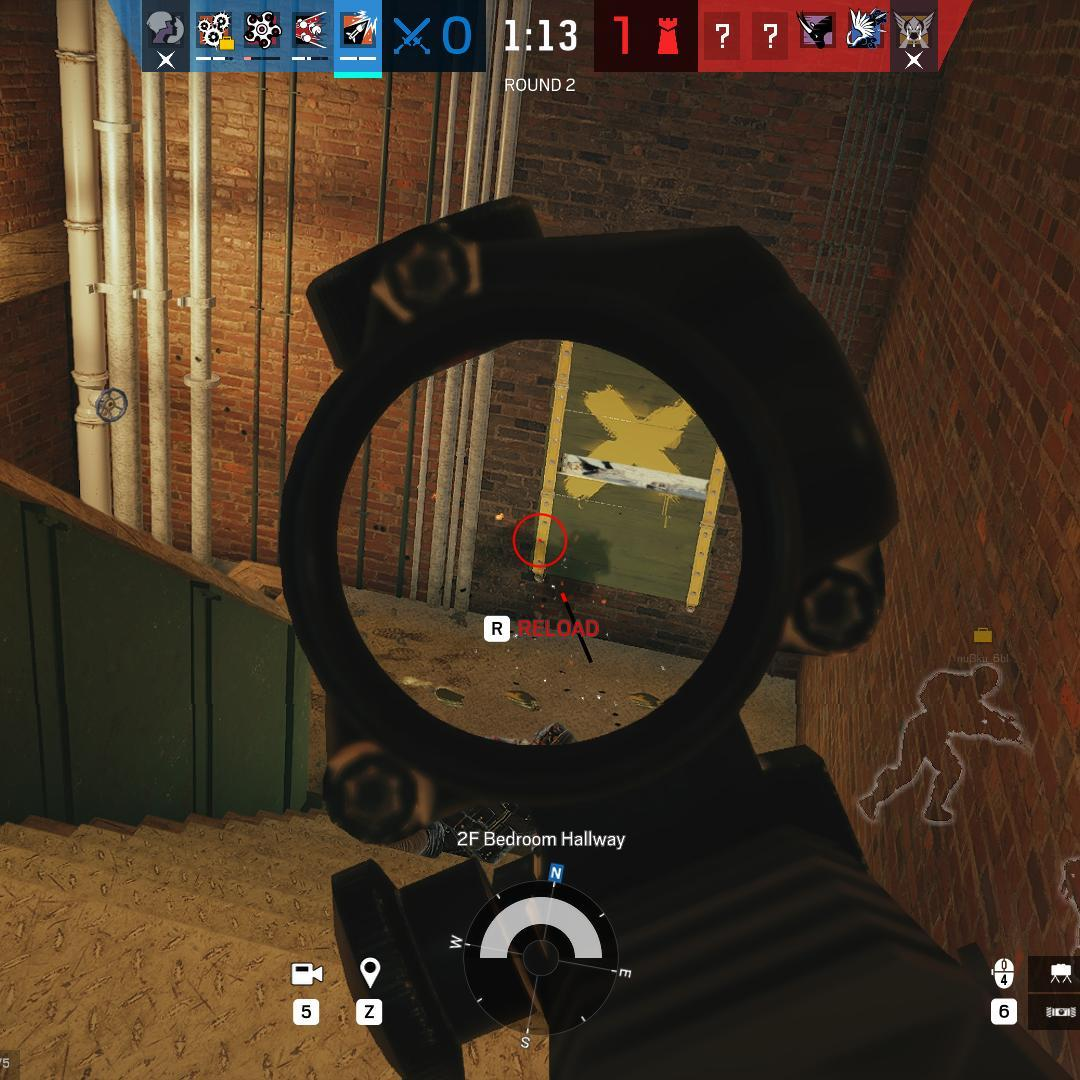Character: (366, 719, 587, 862)
Friend_label: (957, 625, 1010, 665)
